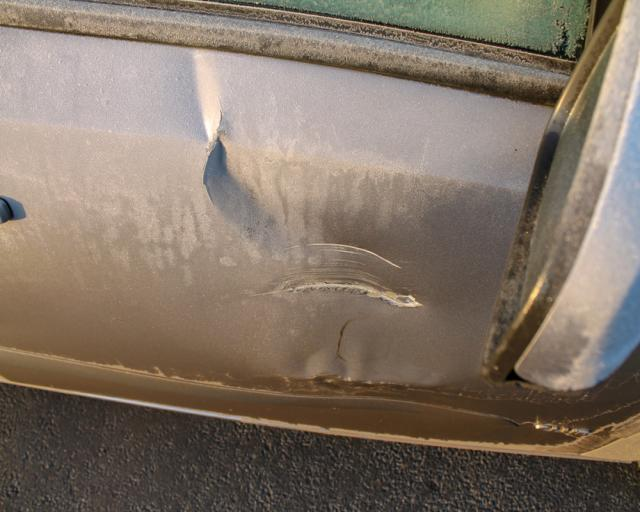dent: (172, 51, 269, 225), (290, 342, 430, 386)
scratch: (259, 236, 430, 316)
